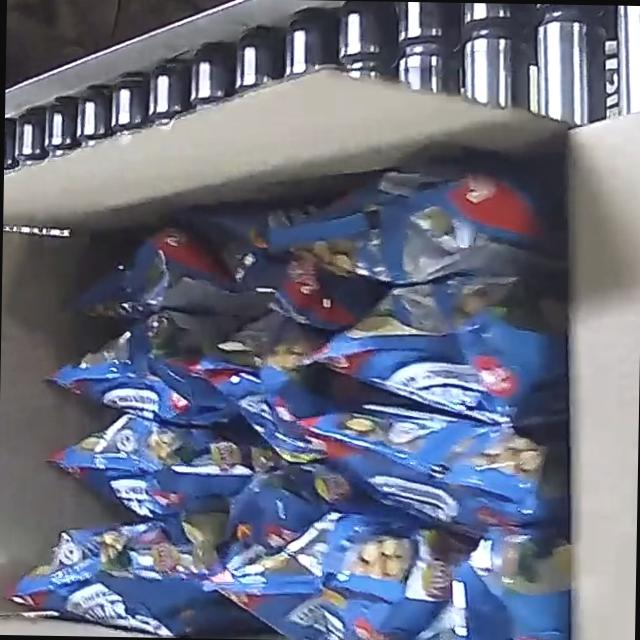paprika: (2, 154, 577, 640)
